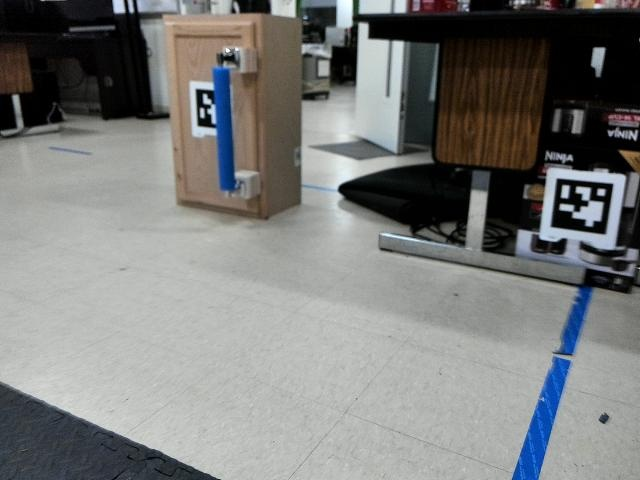noodle_handle: (208, 64, 237, 195)
